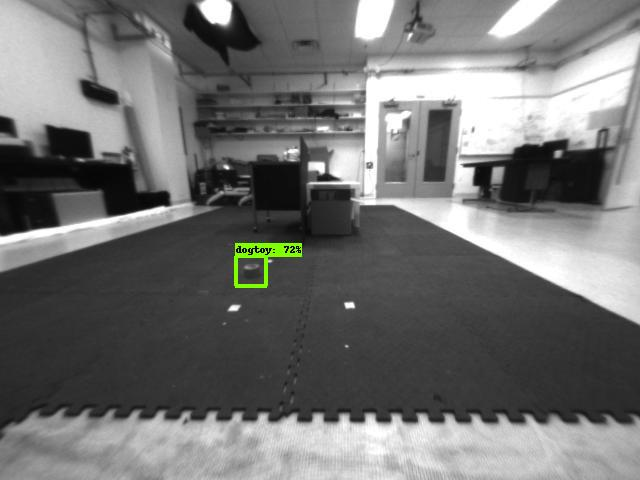dogtoy: (228, 256, 268, 286)
